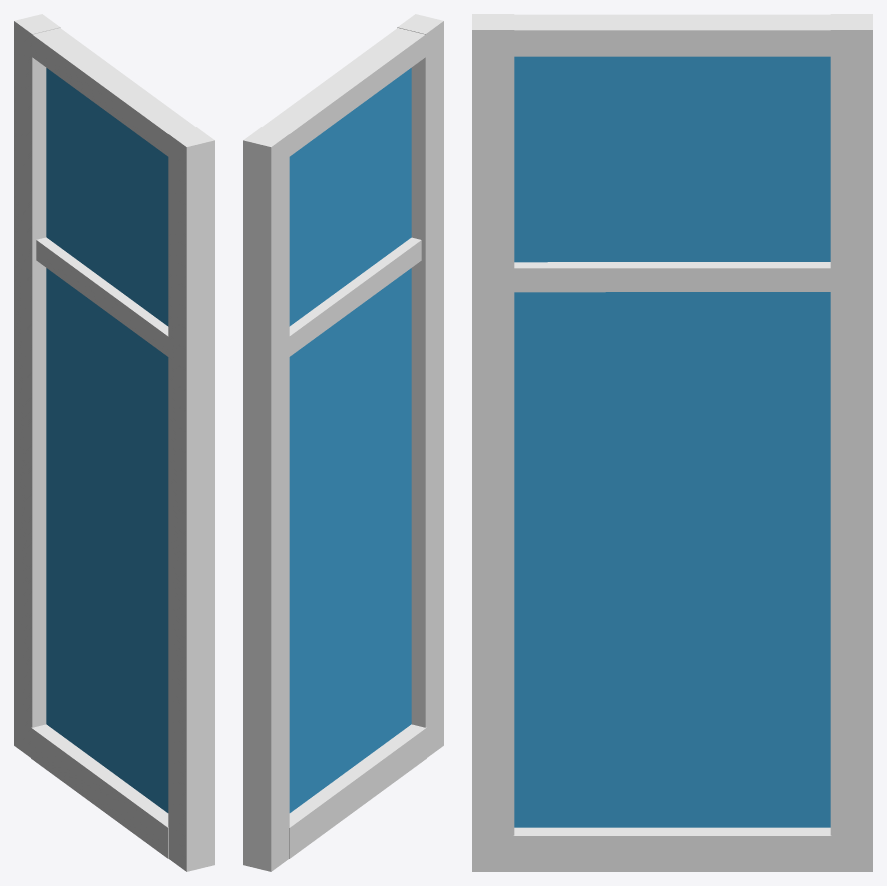
3 renders of one model, left to right at view 1: azimuth 30°, elevation 25°; view 2: azimuth 150°, elevation 25°; view 3: azimuth 270°, elevation 25°, orthographic. The views are drawn at different scales.
Visible parts, largest first — view 1: Plane, Cube, Cube.001, Cube.003, Cube.004, Cube.002; view 2: Plane, Cube.001, Cube, Cube.003, Cube.004, Cube.002; view 3: Plane, Cube, Cube.001, Cube.004, Cube.003, Cube.002.
Boxes of the visible parts, x1,y1,x2,y2 form: Plane: [46, 68, 168, 812]; Cube: [168, 127, 214, 871]; Cube.001: [14, 14, 60, 757]; Cube.003: [32, 28, 195, 156]; Cube.004: [31, 724, 168, 858]; Cube.002: [36, 237, 168, 356]; Plane: [289, 68, 411, 812]; Cube.001: [243, 127, 289, 871]; Cube: [397, 14, 443, 757]; Cube.003: [262, 28, 425, 156]; Cube.004: [289, 724, 426, 858]; Cube.002: [289, 237, 421, 356]; Plane: [514, 56, 830, 827]; Cube: [472, 14, 514, 871]; Cube.001: [830, 14, 872, 871]; Cube.004: [513, 827, 831, 871]; Cube.003: [514, 14, 830, 56]; Cube.002: [514, 262, 830, 292].
Size of the model in its own units: 9.38 by 222 by 95.43.
